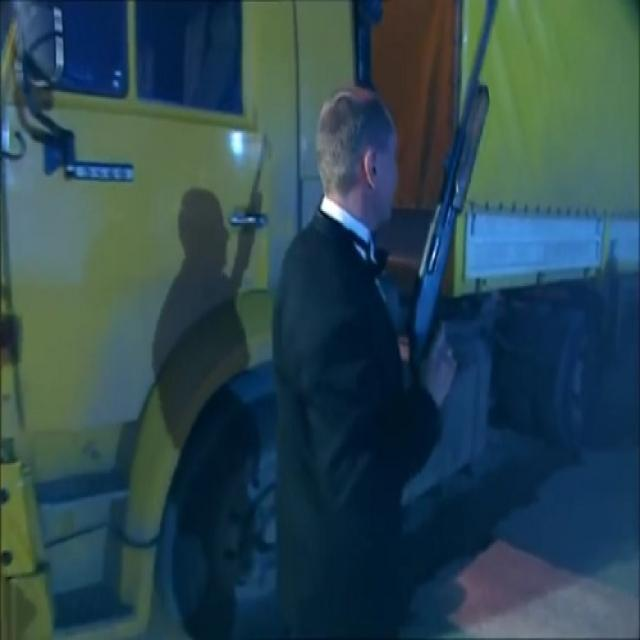rifle: (401, 4, 506, 388)
